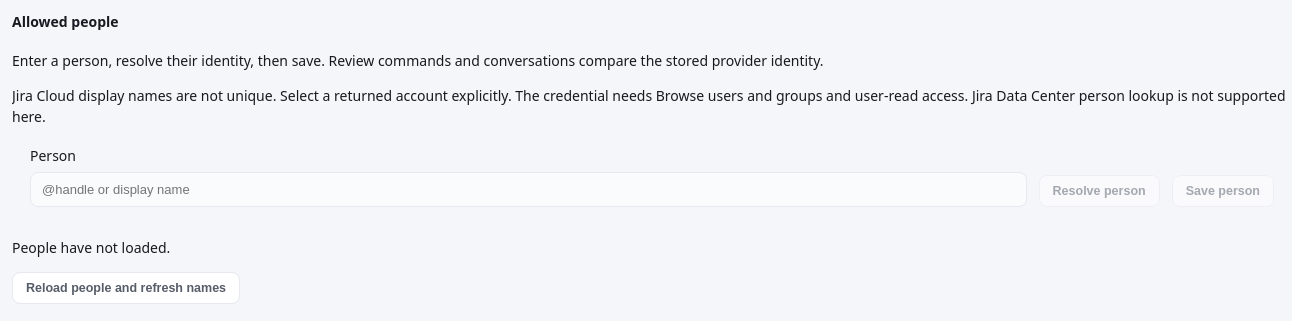
Test case: requires explicit selection for nonunique Jira display names
expect the text "Browse users and groups" is shown: met, box [12,86,1286,126]
Type "TEST Person" into the field labelled "Person". click: (528, 190)
box: [30,172,1027,207]
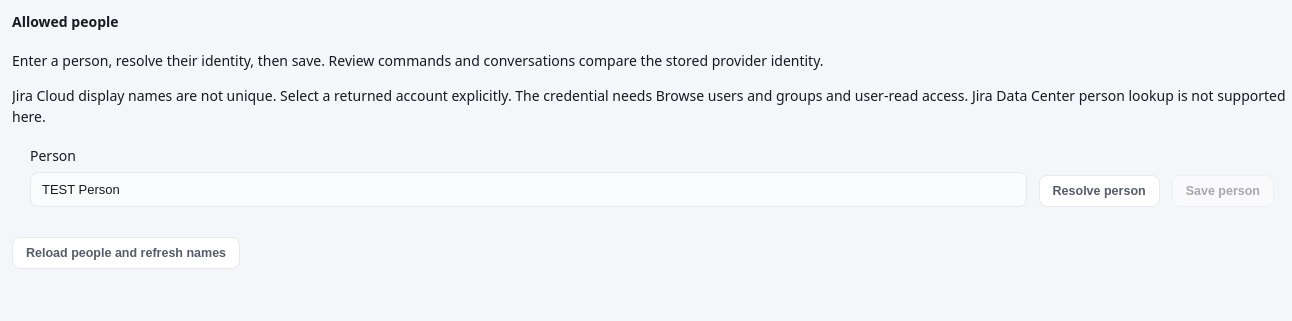
Click the button "Resolve person". click: (1099, 191)
box: [1039,175,1160,207]
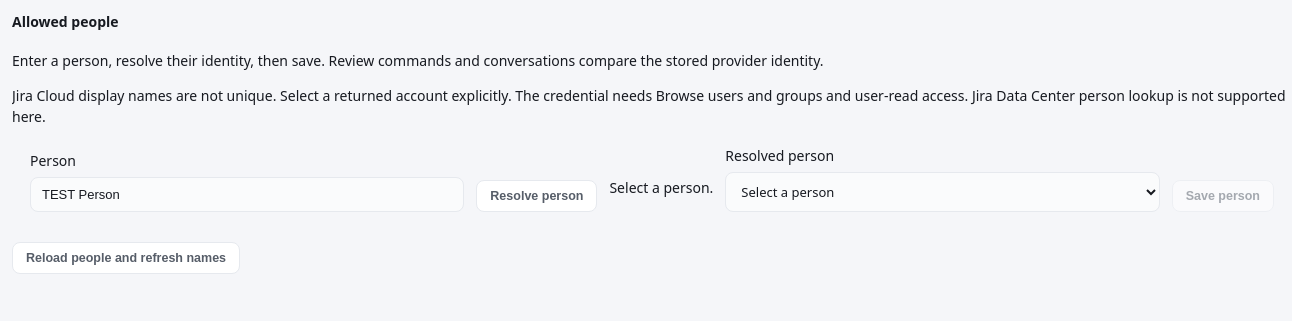
expect the button "Save person" is disabled: met, box [1172,180,1274,212]
Select "TEST Person · TEST Person · TEST-jira-other" in the dropdown labelled "Resolved person". click: (942, 192)
box: [725,172,1160,212]
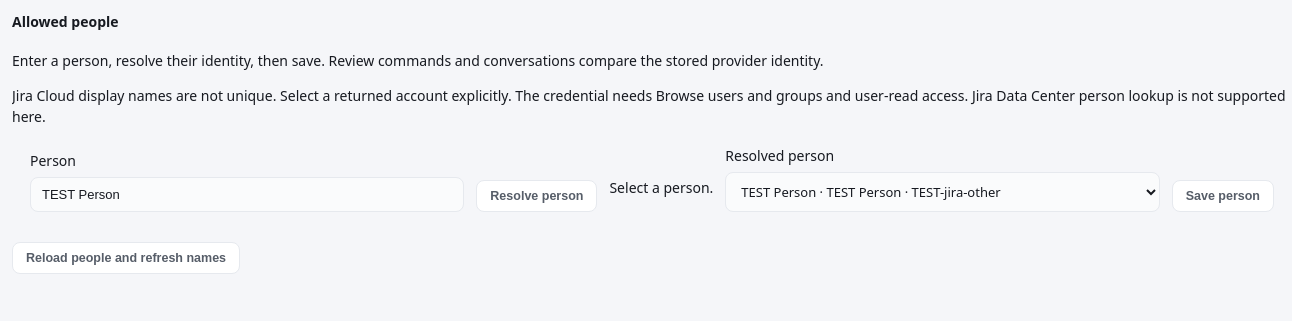
expect the button "Save person" is enabled: met, box [1172,180,1274,212]
